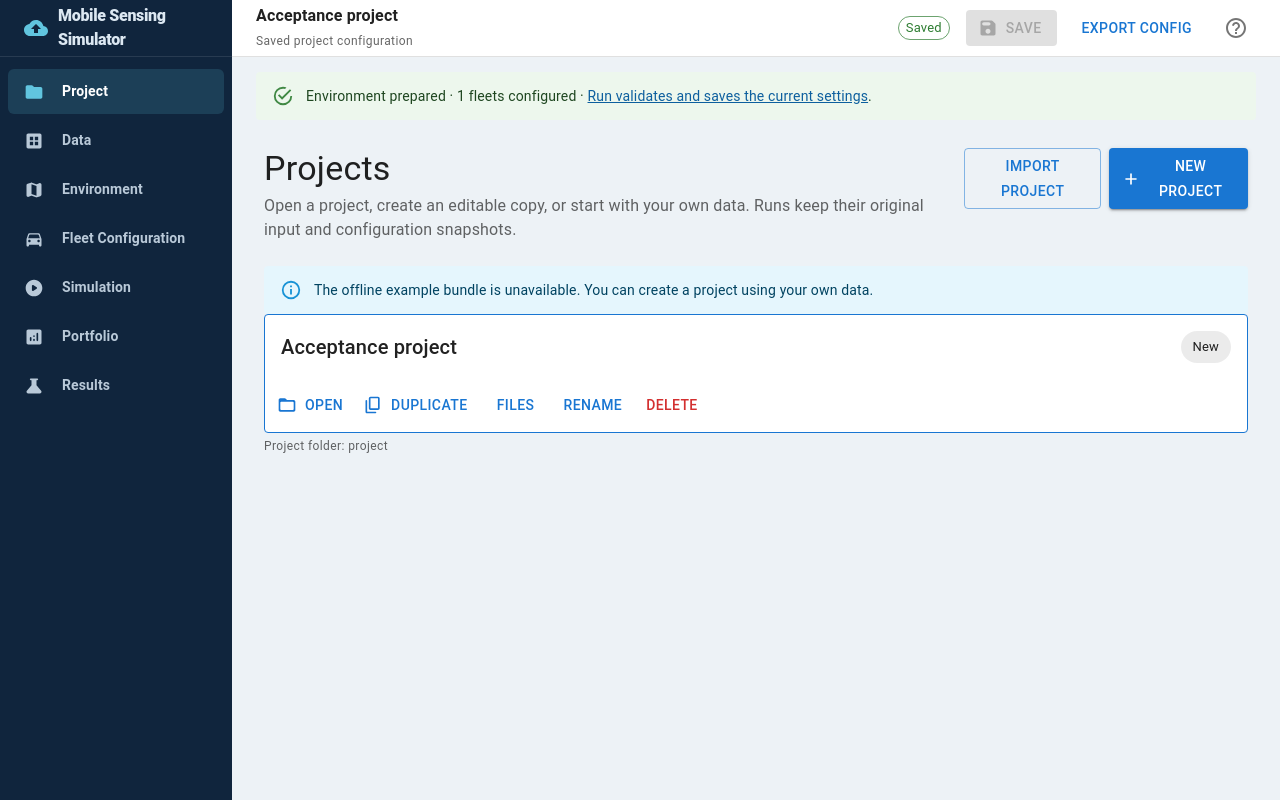
Test case: MR05 public workbench › rejects duplicate project names before submission and opens the file inventory
This screenshot has width=1280, height=800.
Expected: the heading "Acceptance project" is shown, top-left (281, 331), bottom-right (457, 363)
Click the button "New project".
click(1179, 178)  # box top-left (1109, 148), bottom-right (1248, 209)
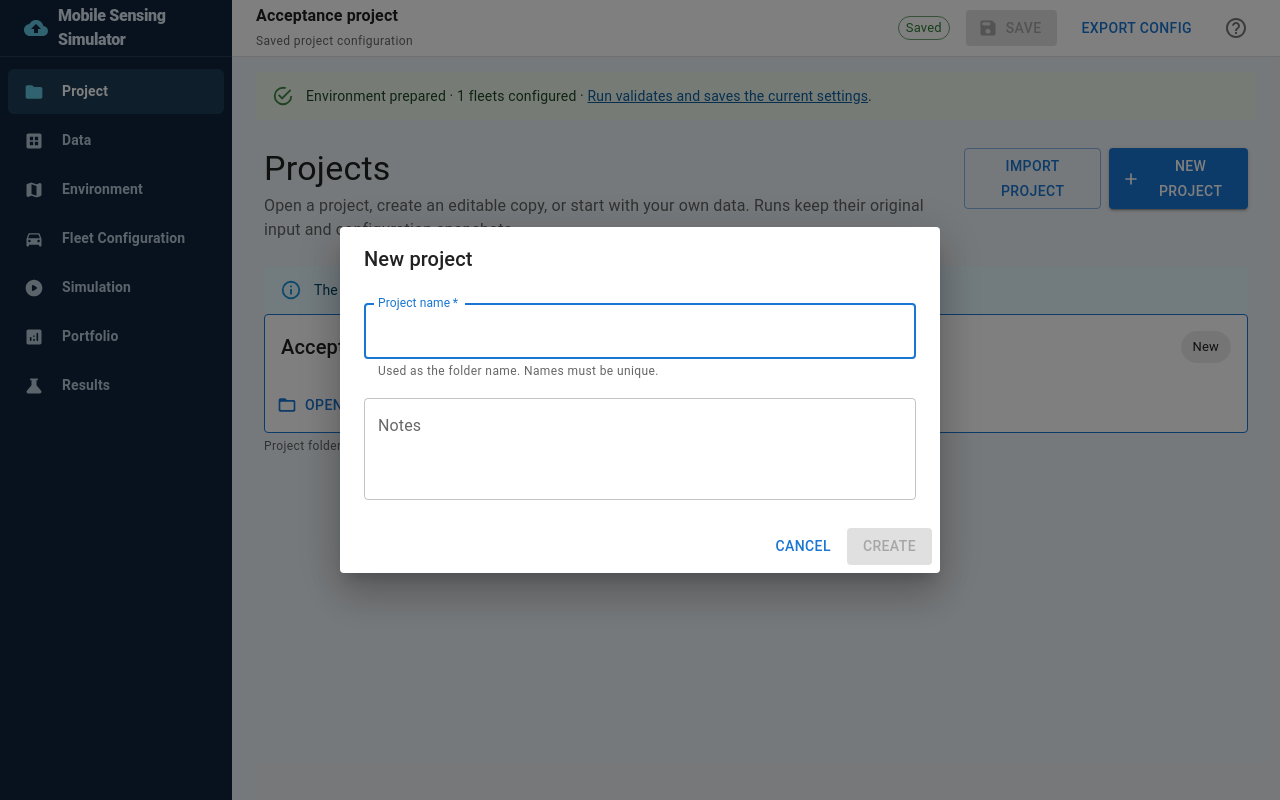
Type "acceptance project" into the field labelled "Project name *".
click(640, 331); type("acceptance project")  # box top-left (364, 303), bottom-right (916, 359)
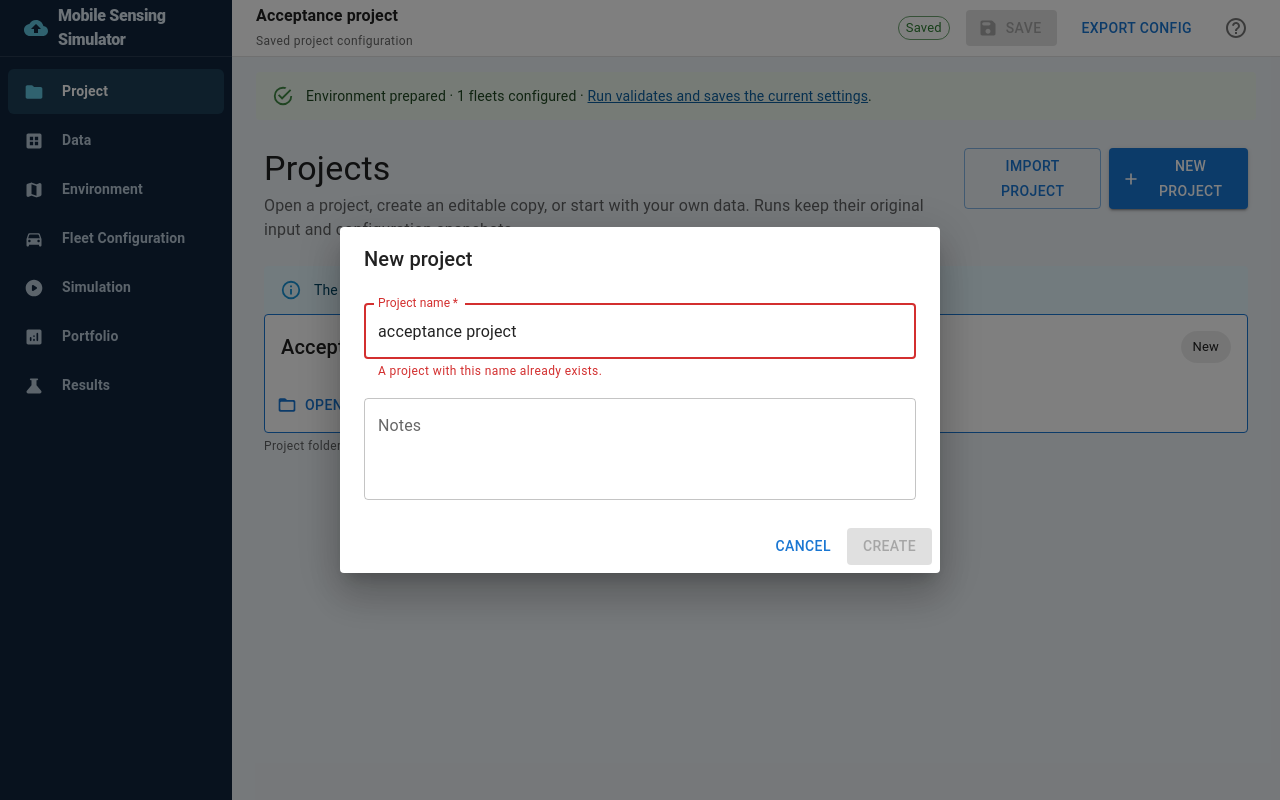
Expected: the button "Create" is disabled, top-left (847, 528), bottom-right (932, 565)
Expected: the text "A project with this name already exists." is shown, top-left (378, 364), bottom-right (602, 378)
Click the button "Cancel".
click(803, 546)  # box top-left (767, 528), bottom-right (839, 565)
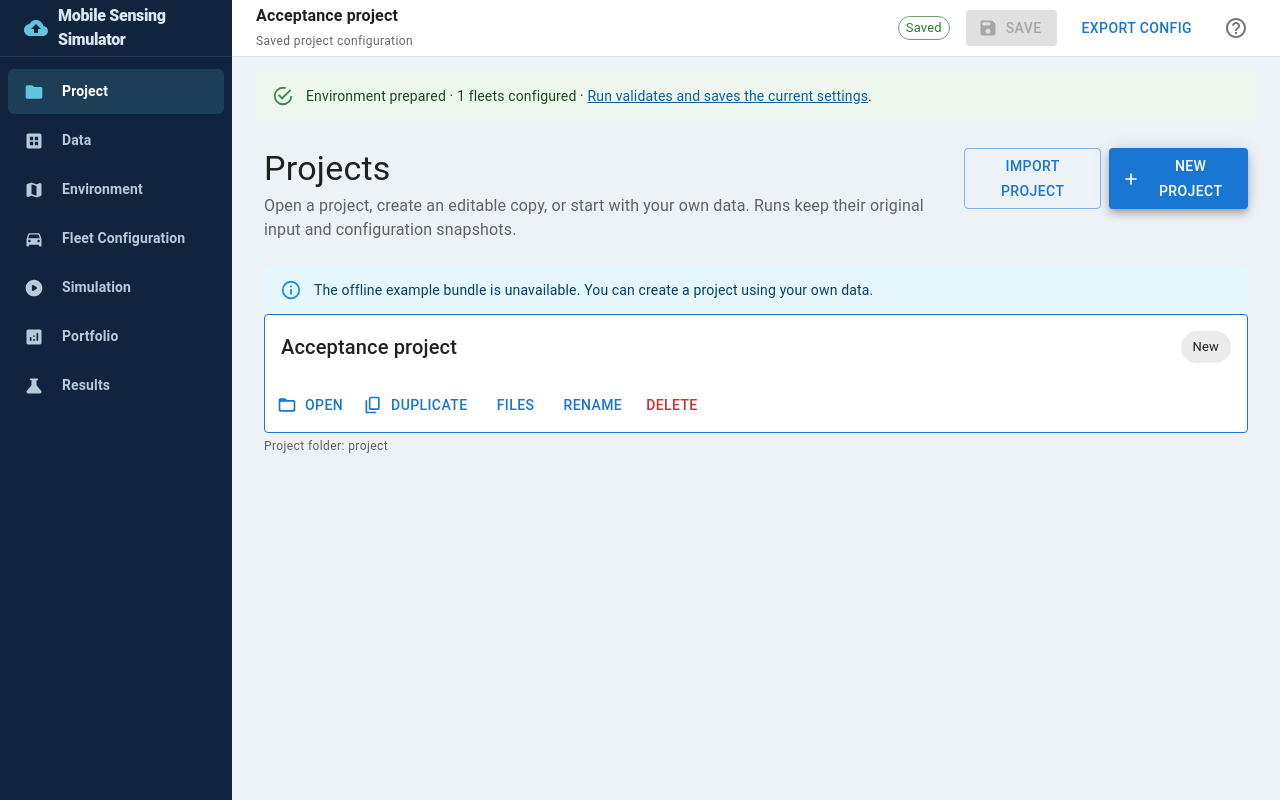
Click the button "Files".
click(516, 405)  # box top-left (484, 387), bottom-right (548, 424)
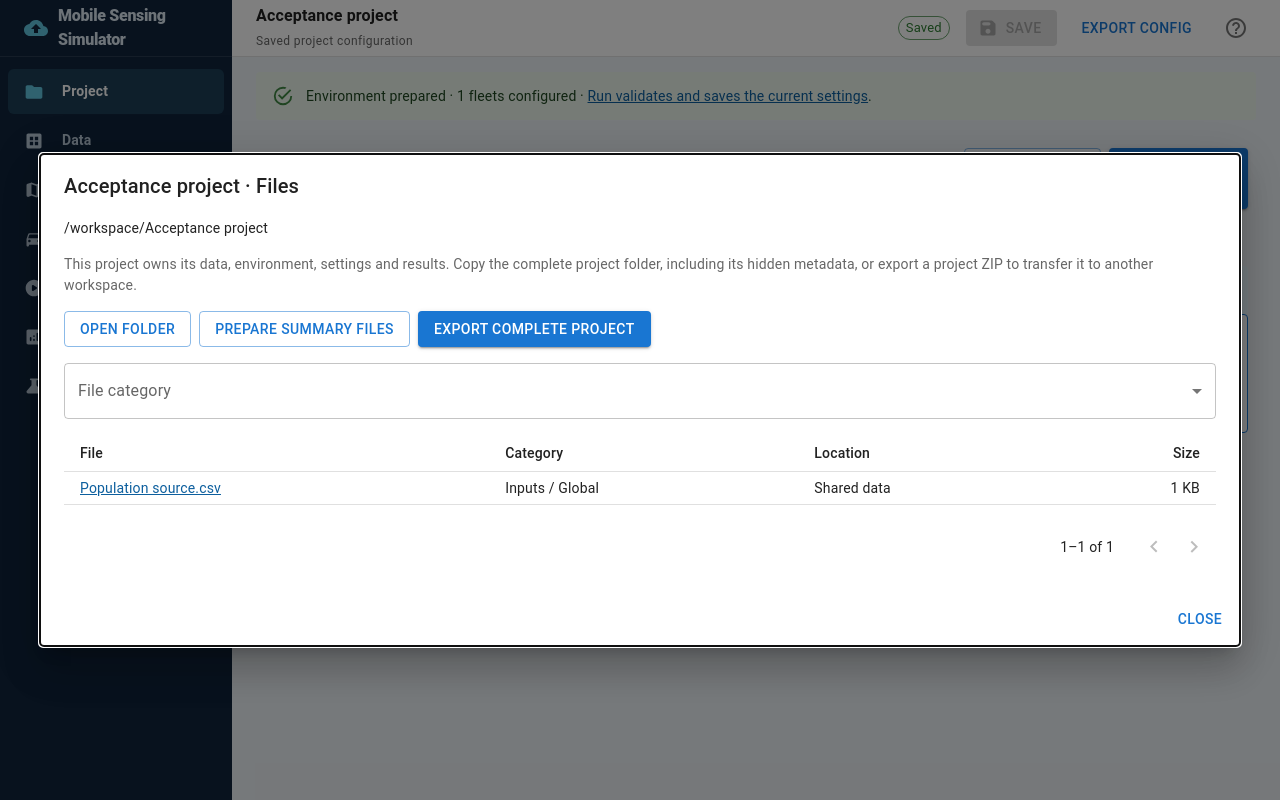
Expected: the button "Export complete project" is shown, top-left (418, 310), bottom-right (650, 347)
